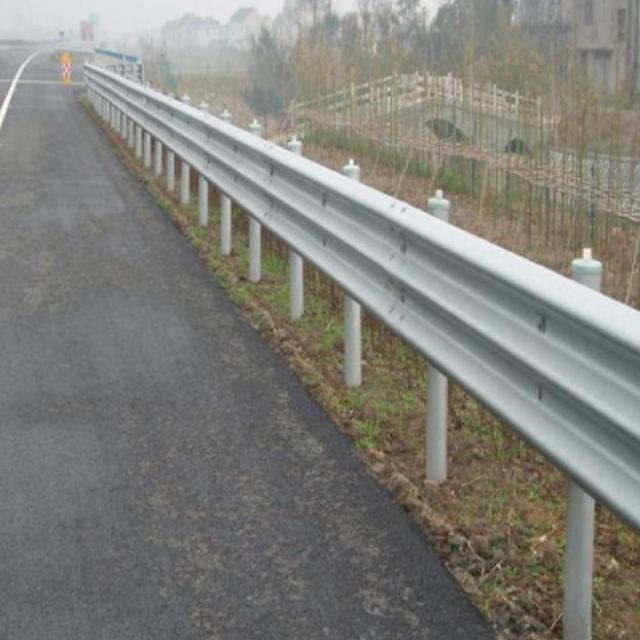Guard rail: (85, 63, 640, 530)
